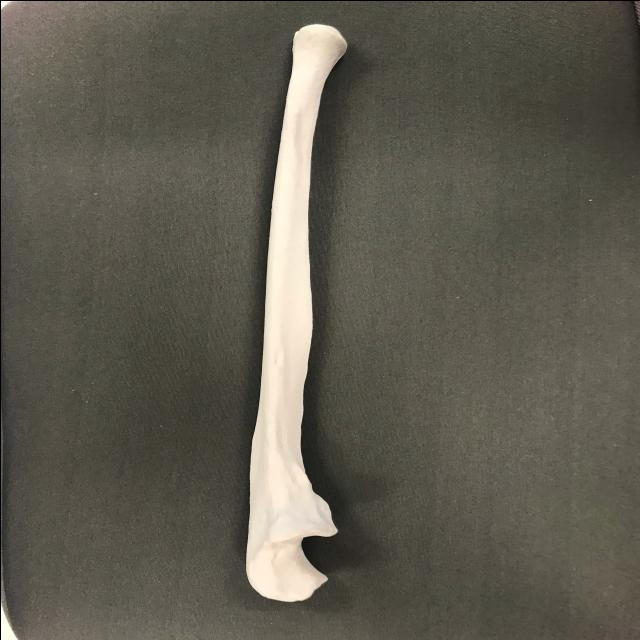bone: (232, 18, 368, 606)
